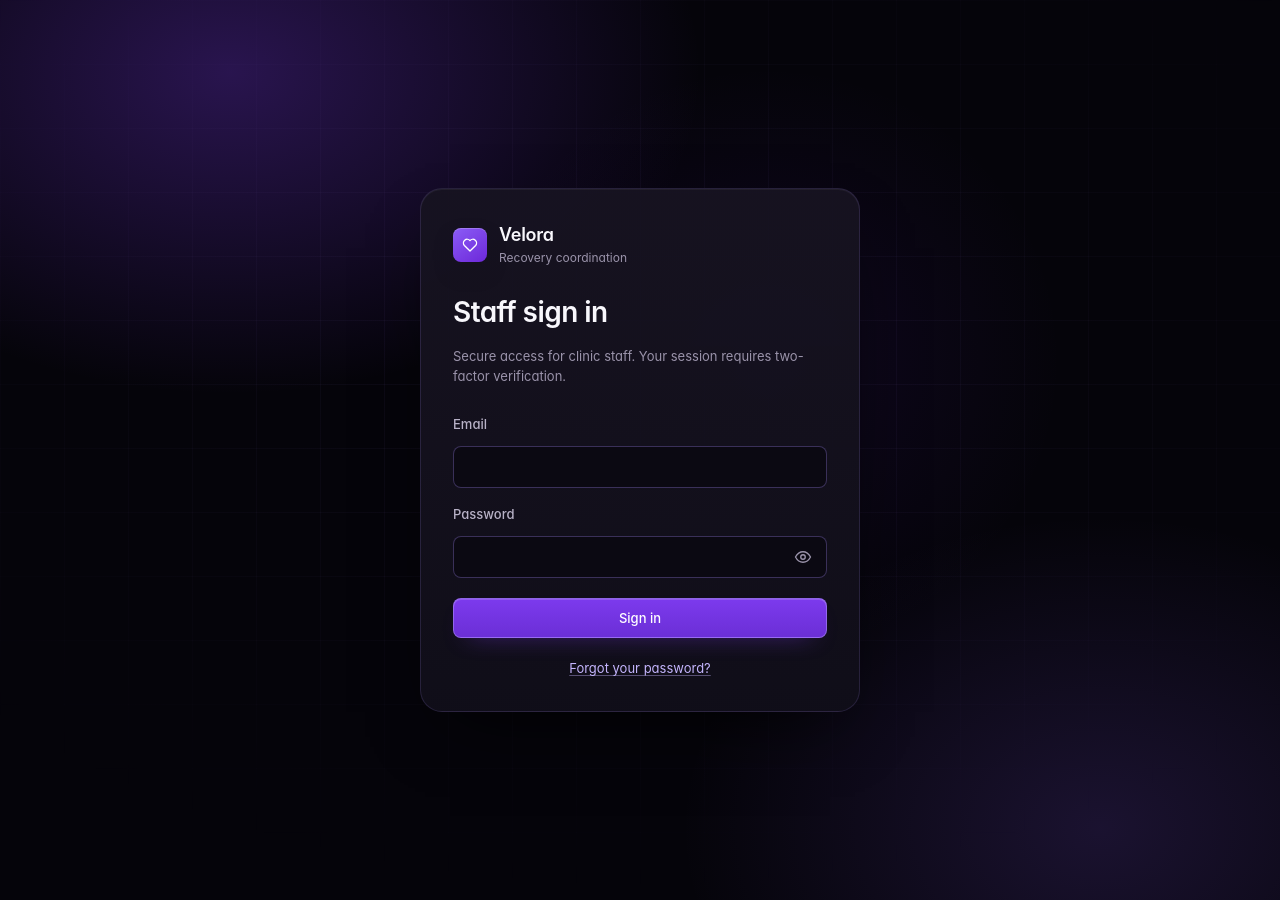
Test case: Login flow › shows the safe server error on bad credentials
In the field labelled "Email": (640, 467) [453, 446, 827, 488], type "staff@synthetic.invalid"
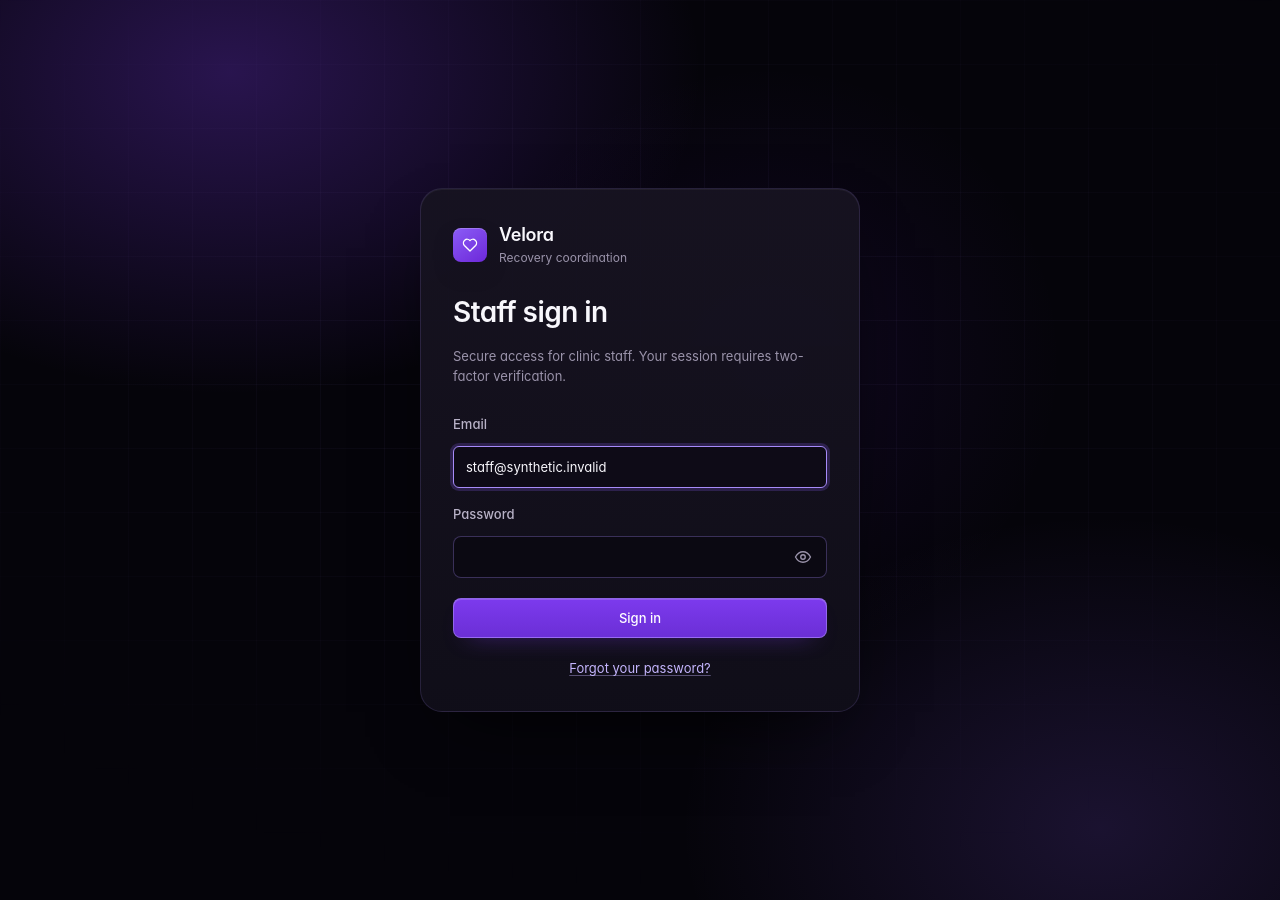
In the password field labelled "Password": (640, 557) [453, 536, 827, 578], type "badPassword"
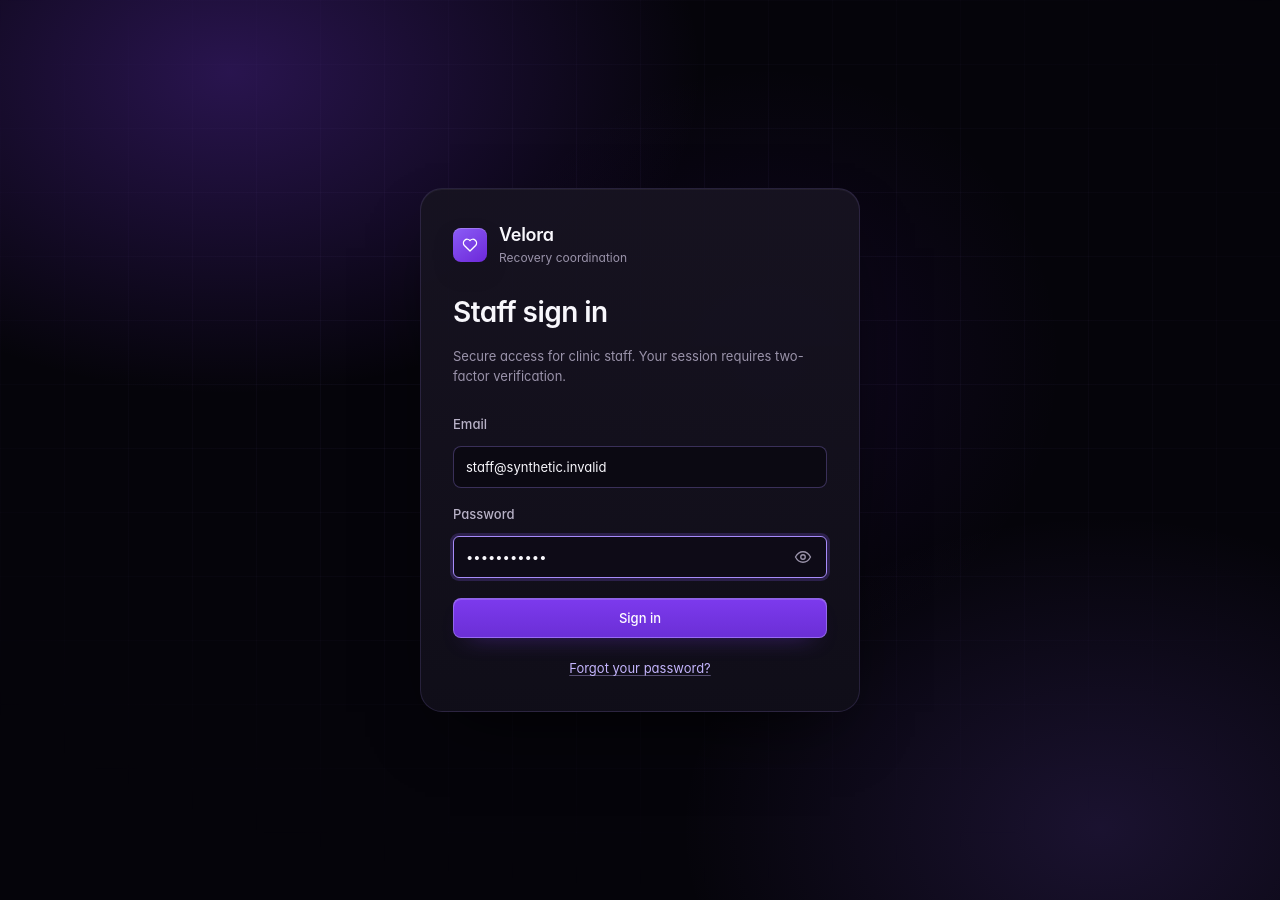
Click the button "Sign in": (640, 618) [453, 598, 827, 638]
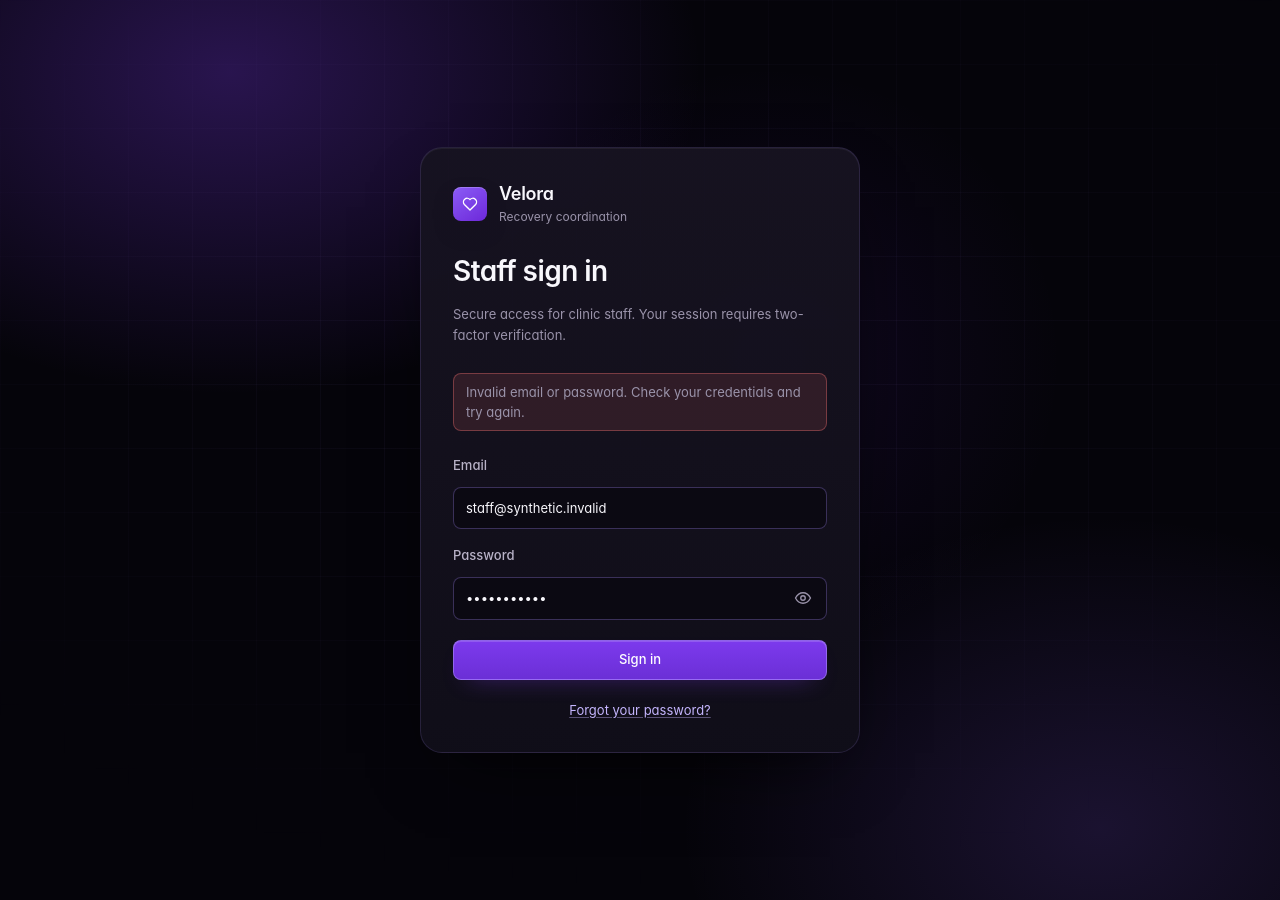
Expected: the message shows "Invalid email or password", [466, 384, 801, 420]
